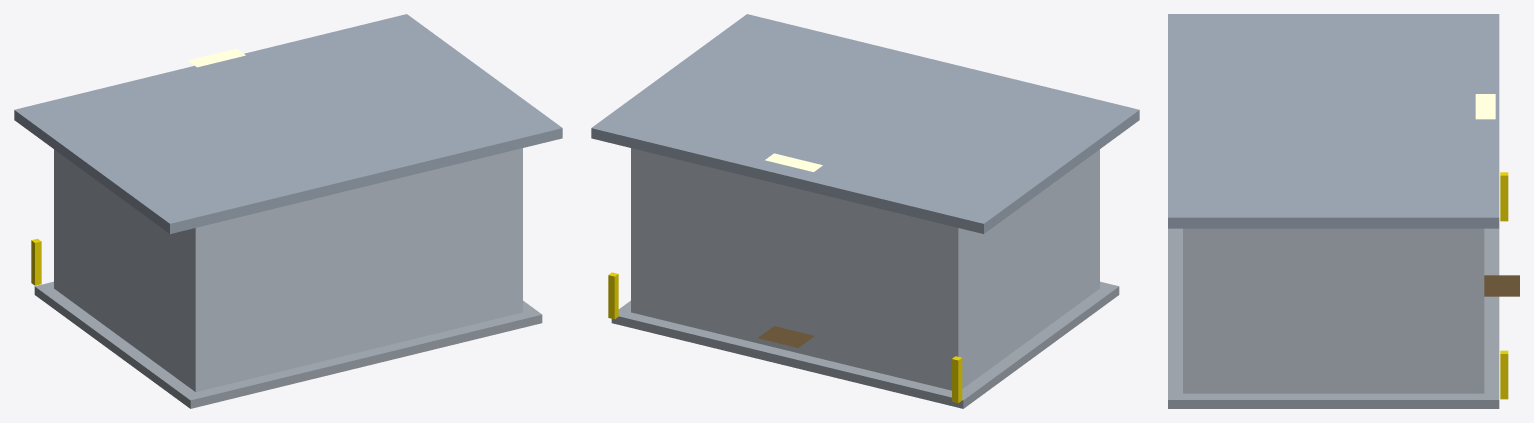
The model's file is subway_station.glb.
3 renders of one model, left to right at view 1: azimuth 30°, elevation 25°; view 2: azimuth 150°, elevation 25°; view 3: azimuth 270°, elevation 25°, orthographic. The views are drawn at different scales.
Parts seen in each view (by area): view 1: subway_station; view 2: subway_station; view 3: subway_station.
Part boxes in pixels (bbox=[...]): subway_station: bbox=[14, 14, 562, 408]; subway_station: bbox=[591, 14, 1139, 408]; subway_station: bbox=[1168, 14, 1519, 408].
Size of the model in its own units: 4.8 by 2.32 by 3.5.
